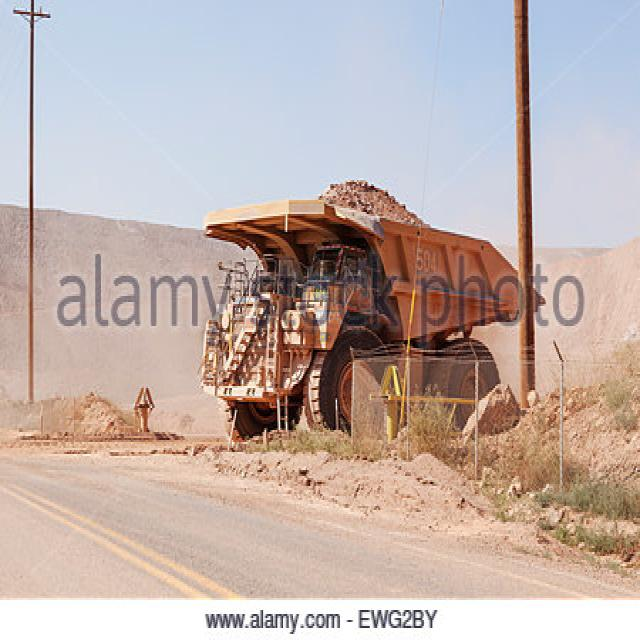dump_truck: (198, 166, 534, 474)
